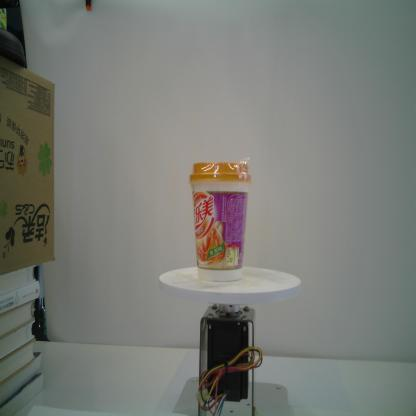Instant Drink: (189, 160, 251, 283)
